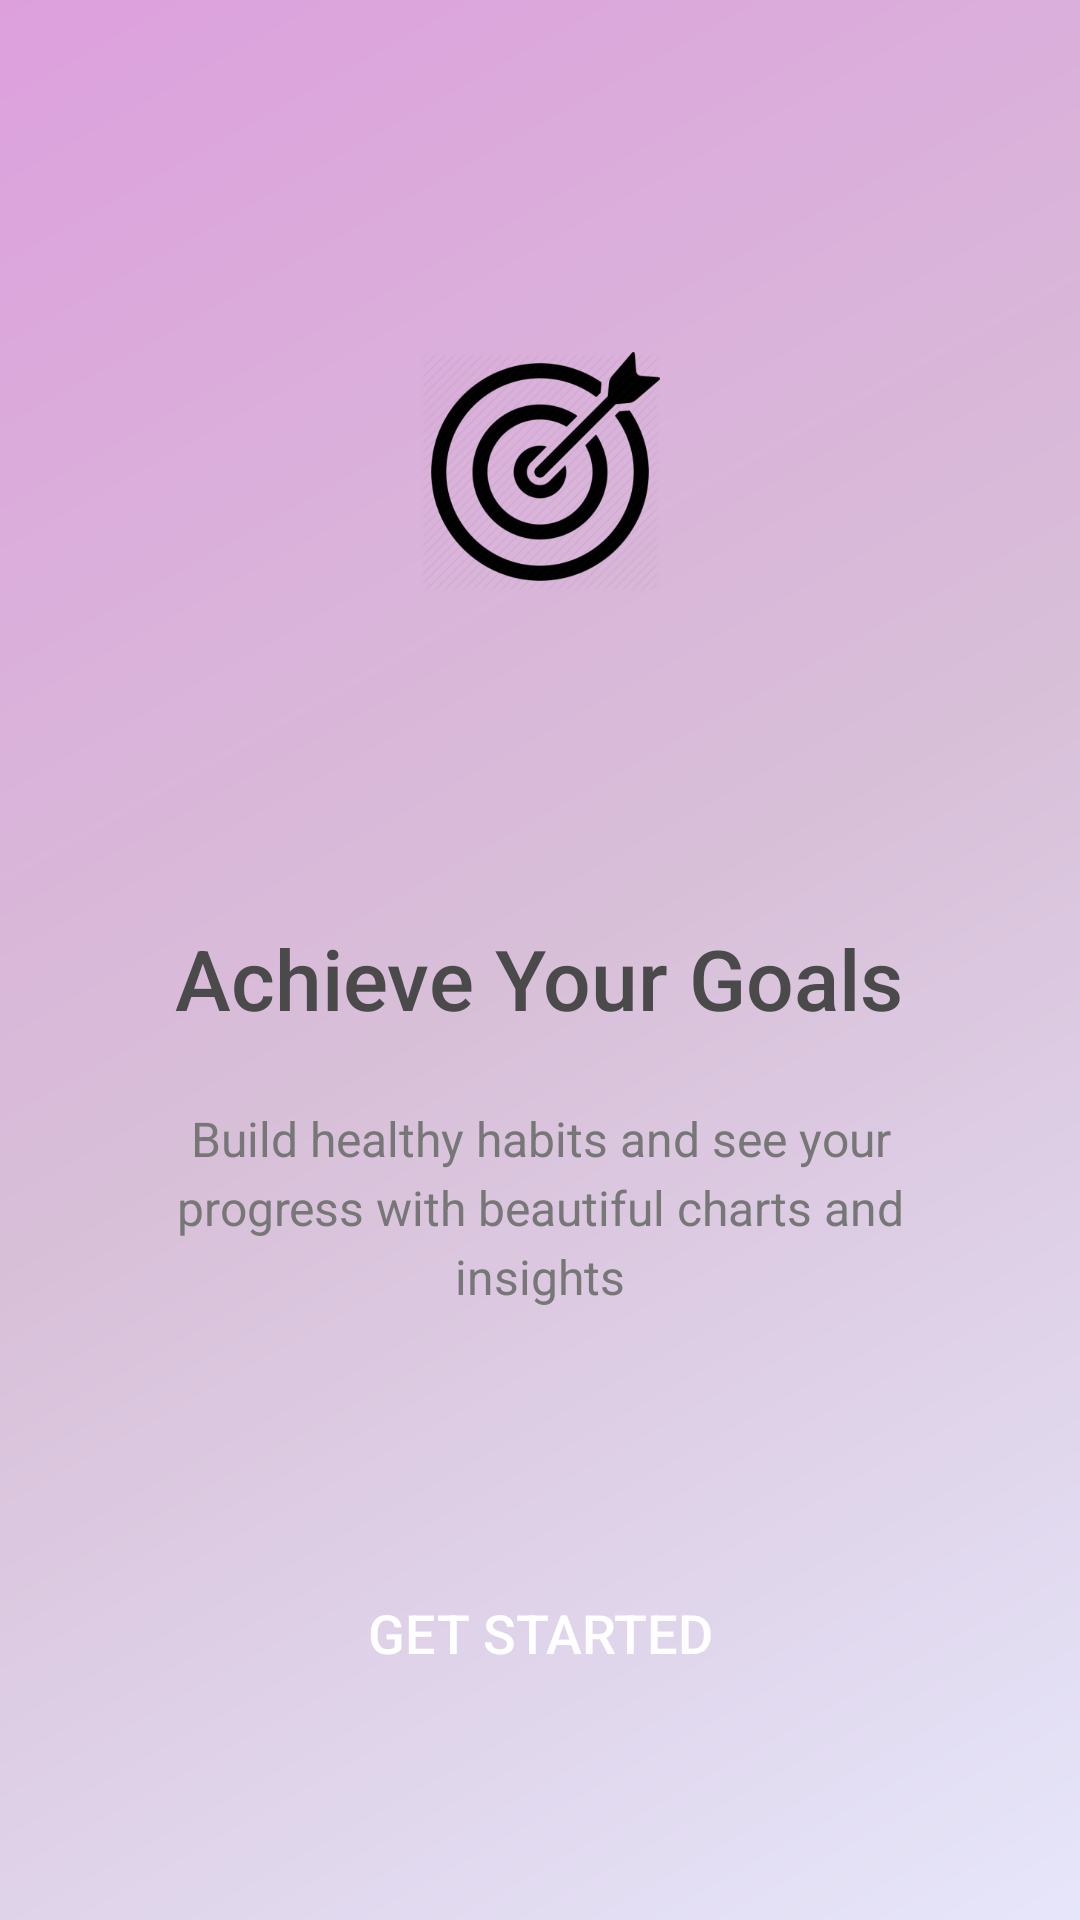

Where icons sit on this 1080x1920 app screen, as (x1, y1, x2, y2):
Goal Target Icon: (431, 352, 660, 581)
